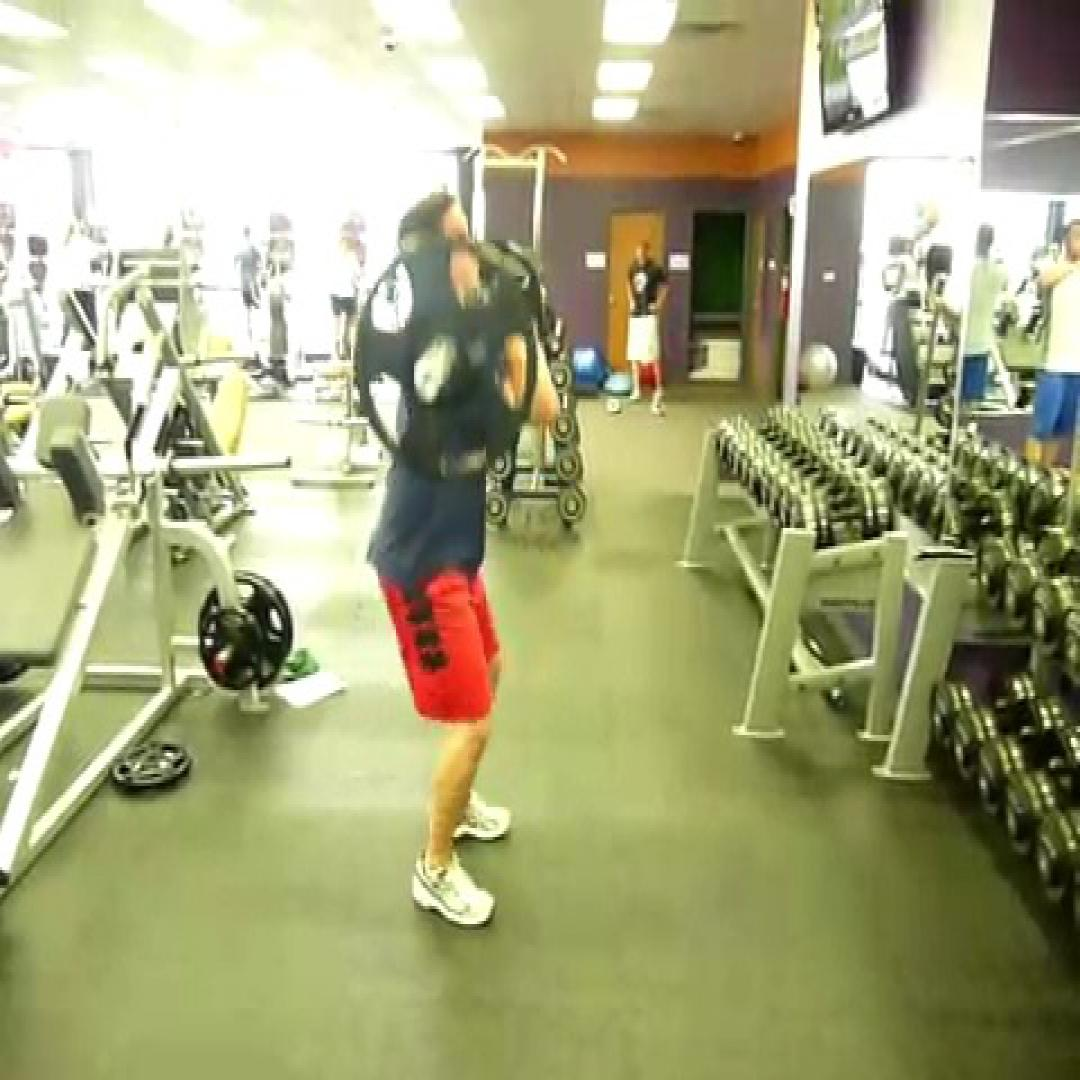Bar: (412, 363, 446, 405)
Barbell: (353, 237, 538, 480)
